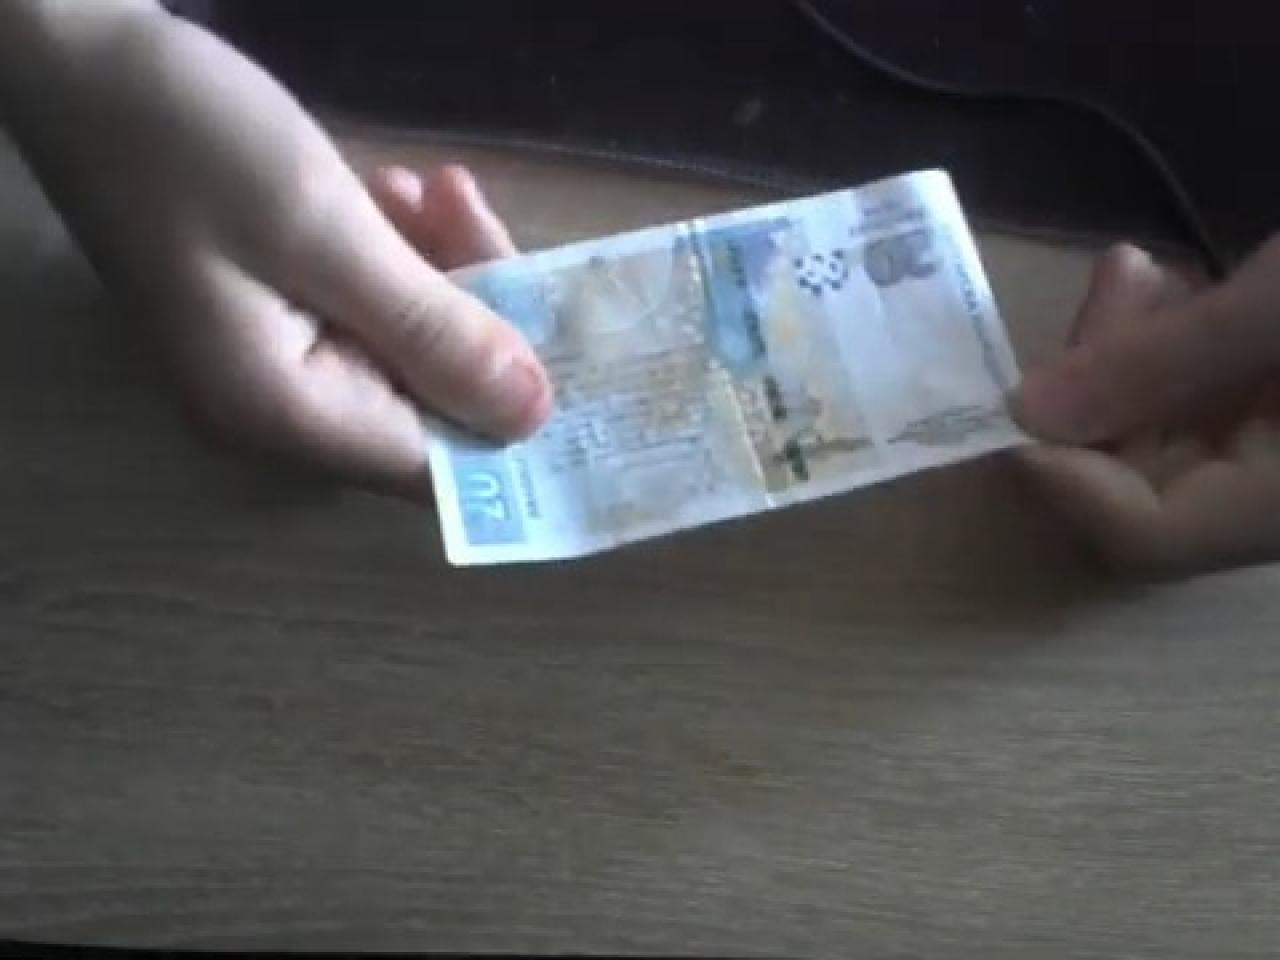20leva: (411, 162, 1040, 571)
